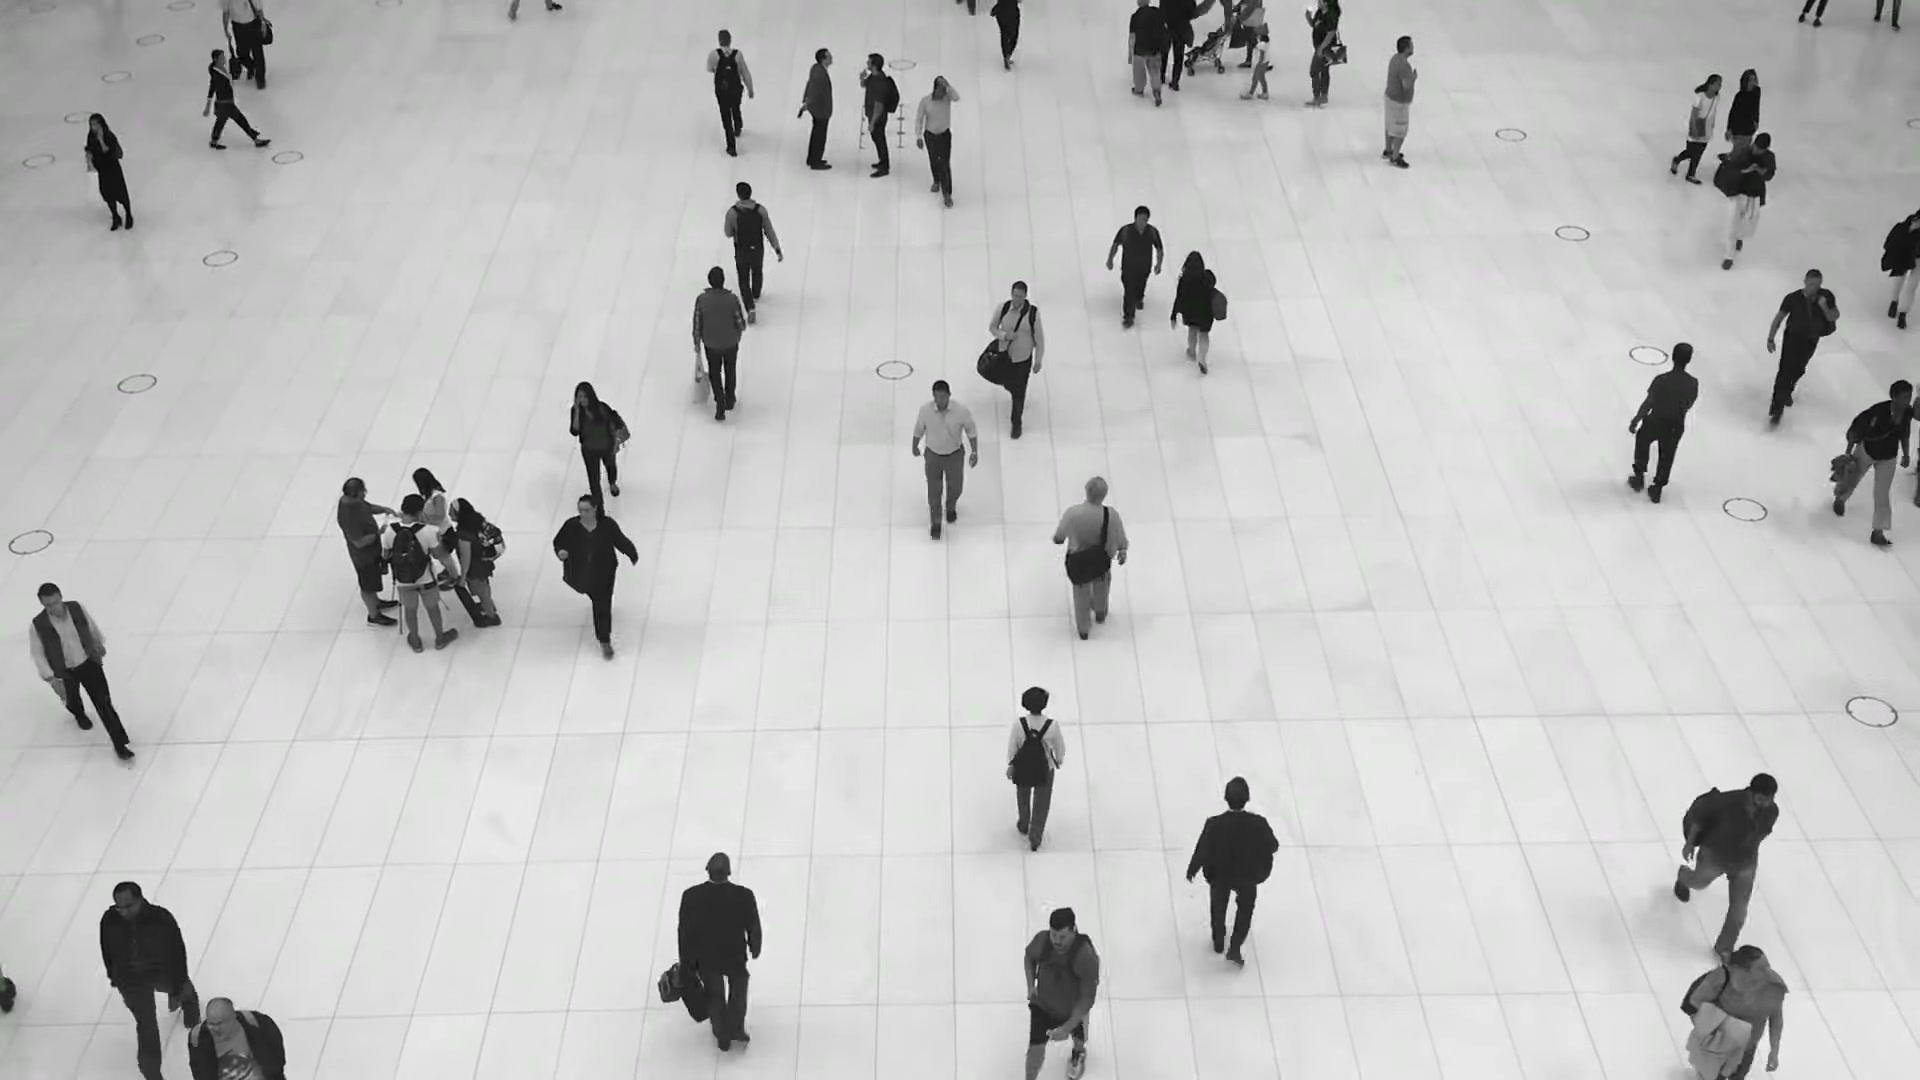person: (666, 858, 763, 1072), (98, 874, 198, 1080), (1190, 783, 1279, 995), (26, 578, 133, 753), (1679, 768, 1776, 955), (1679, 943, 1788, 1080), (1021, 905, 1103, 1079), (552, 491, 635, 652), (1838, 375, 1911, 542), (382, 494, 458, 653), (1055, 478, 1128, 638), (1766, 265, 1839, 418), (1630, 342, 1700, 500), (911, 378, 979, 531), (1007, 689, 1067, 853), (337, 476, 400, 629), (690, 270, 747, 432), (989, 280, 1046, 440), (185, 996, 287, 1080), (1715, 132, 1776, 273), (724, 182, 780, 323), (570, 378, 629, 503), (449, 498, 502, 628), (1110, 201, 1164, 322), (913, 73, 960, 202), (1669, 73, 1722, 188), (206, 47, 265, 150), (706, 27, 753, 152), (85, 112, 134, 231), (412, 467, 459, 591), (1172, 253, 1218, 379), (858, 53, 900, 179), (1381, 34, 1419, 168), (1126, 0, 1173, 104), (1715, 69, 1761, 165), (799, 47, 834, 171), (1303, 0, 1341, 108), (1247, 30, 1273, 102)
